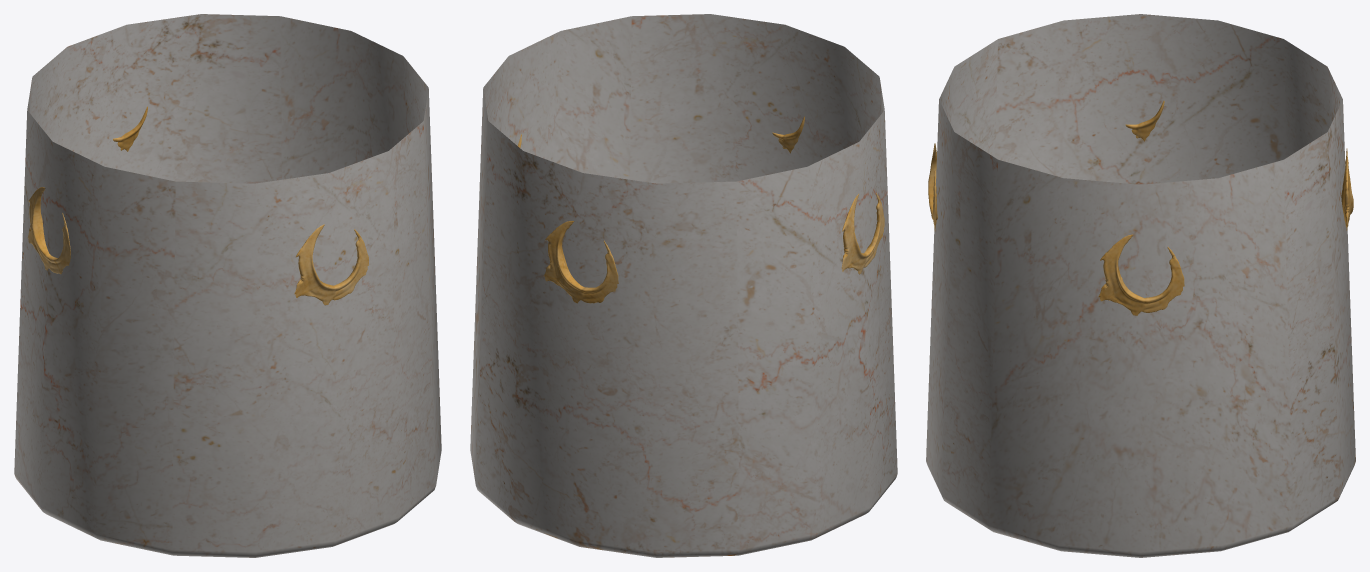
Rendered from Faro piso 3.fbx.
3 views of the same model, side by side, from view 1: azimuth 30°, elevation 25°; view 2: azimuth 150°, elevation 25°; view 3: azimuth 270°, elevation 25° (orthographic).
Visible parts, largest first — view 1: Faro piso 3_Baked; view 2: Faro piso 3_Baked; view 3: Faro piso 3_Baked.
Part boxes in pixels (<box>): Faro piso 3_Baked: <box>14,14,441,557</box>; Faro piso 3_Baked: <box>470,14,897,557</box>; Faro piso 3_Baked: <box>926,14,1355,557</box>.
Size of the model in its own units: 417 by 400 by 417.
Materials: 1 (1 with a texture image).
